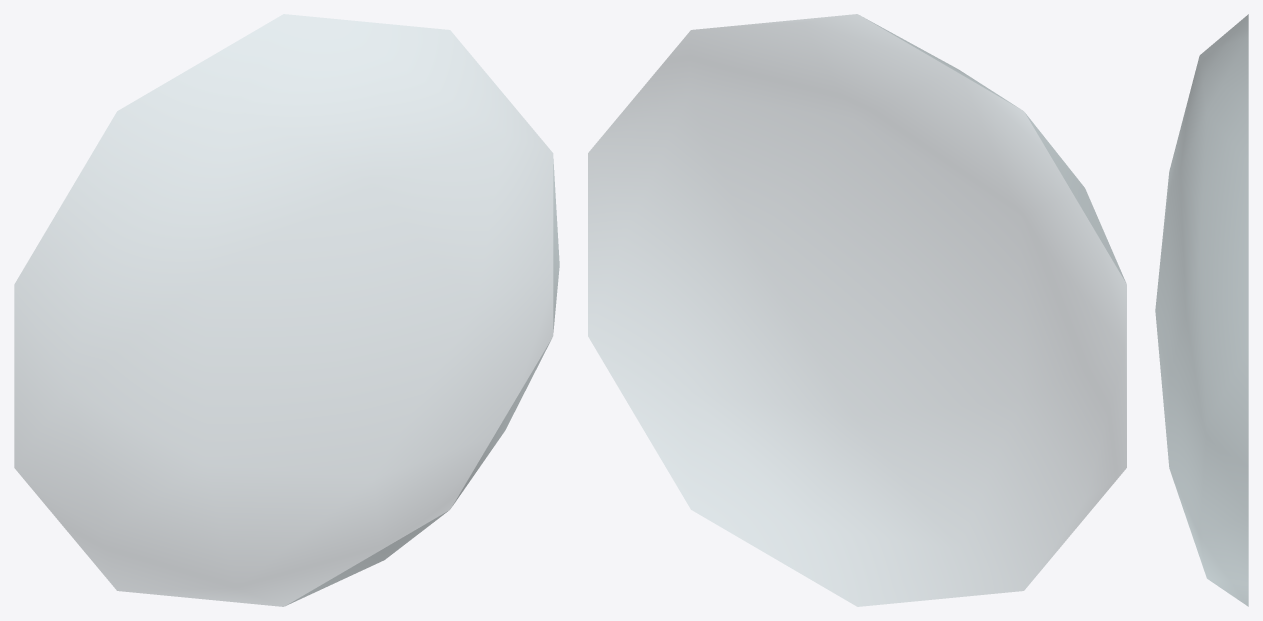
File: Gas_Grenade_Glass.fbx
The picture shows the model from 3 angles, left to right: view 1: azimuth 30°, elevation 25°; view 2: azimuth 150°, elevation 25°; view 3: azimuth 270°, elevation 25°; orthographic projection. The views are drawn at different scales.
Parts seen in each view (by area): view 1: Gas_Grenade_Glass; view 2: Gas_Grenade_Glass; view 3: Gas_Grenade_Glass.
Boxes of the visible parts, x1,y1,x2,y2 form: Gas_Grenade_Glass: [14, 14, 559, 606]; Gas_Grenade_Glass: [588, 14, 1126, 606]; Gas_Grenade_Glass: [1155, 14, 1248, 606].
Size of the model in its own units: 2.75 by 2.89 by 0.4473.
